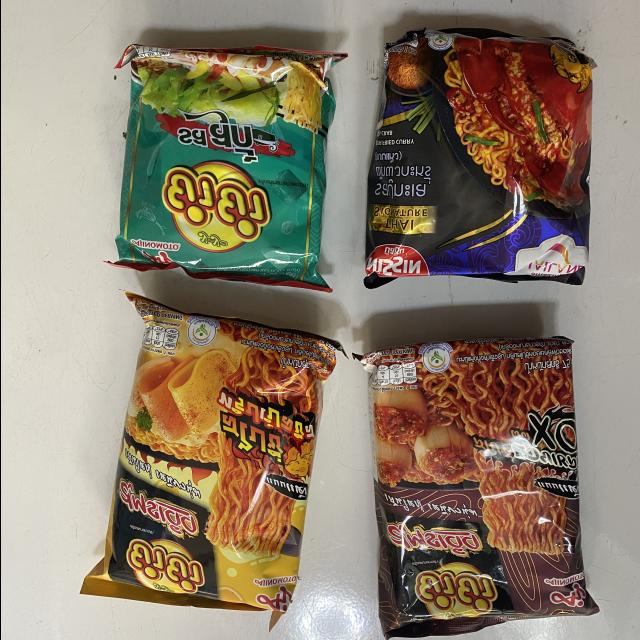plastik: (80, 293, 341, 614), (353, 337, 598, 638), (363, 29, 594, 289), (110, 44, 346, 292)
